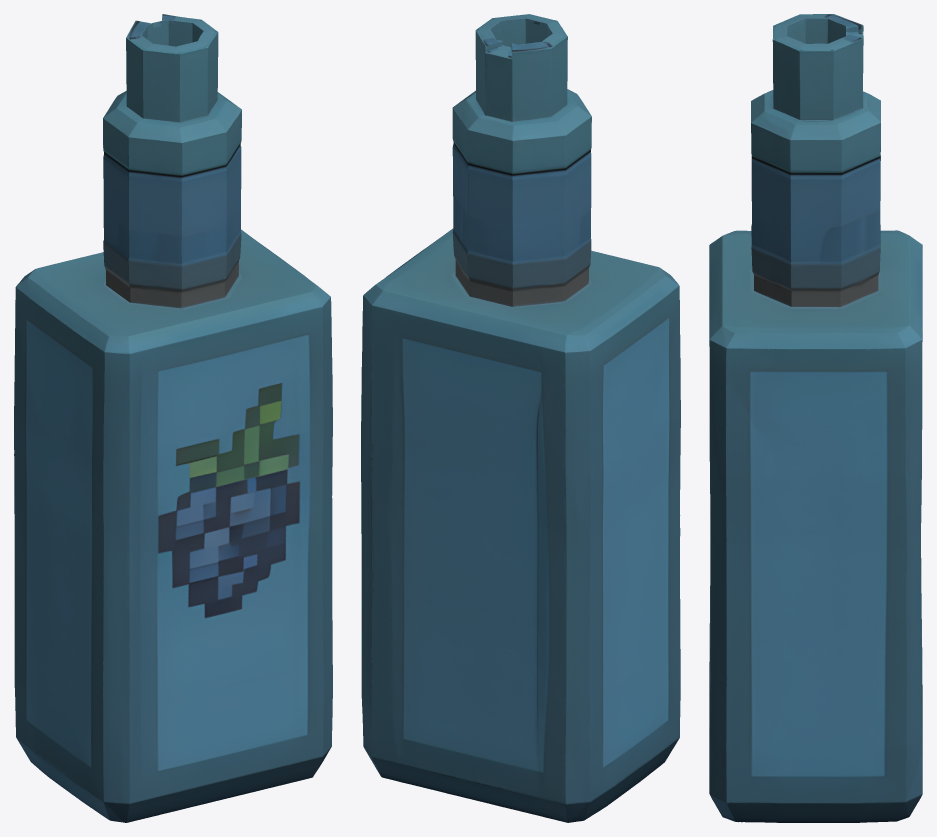
The model's file is raz_vape.glb.
3 views of the same model, side by side, from view 1: azimuth 30°, elevation 25°; view 2: azimuth 150°, elevation 25°; view 3: azimuth 270°, elevation 25° (orthographic).
Visible parts, largest first — view 1: model; view 2: model; view 3: model.
Part boxes in pixels (box(x1,y1,x2,y2)): model: box(14, 14, 332, 822); model: box(361, 14, 680, 822); model: box(709, 14, 922, 822).
Size of the model in its own units: 0.5959 by 1.82 by 0.4737.
Materials: 1 (1 with a texture image).
